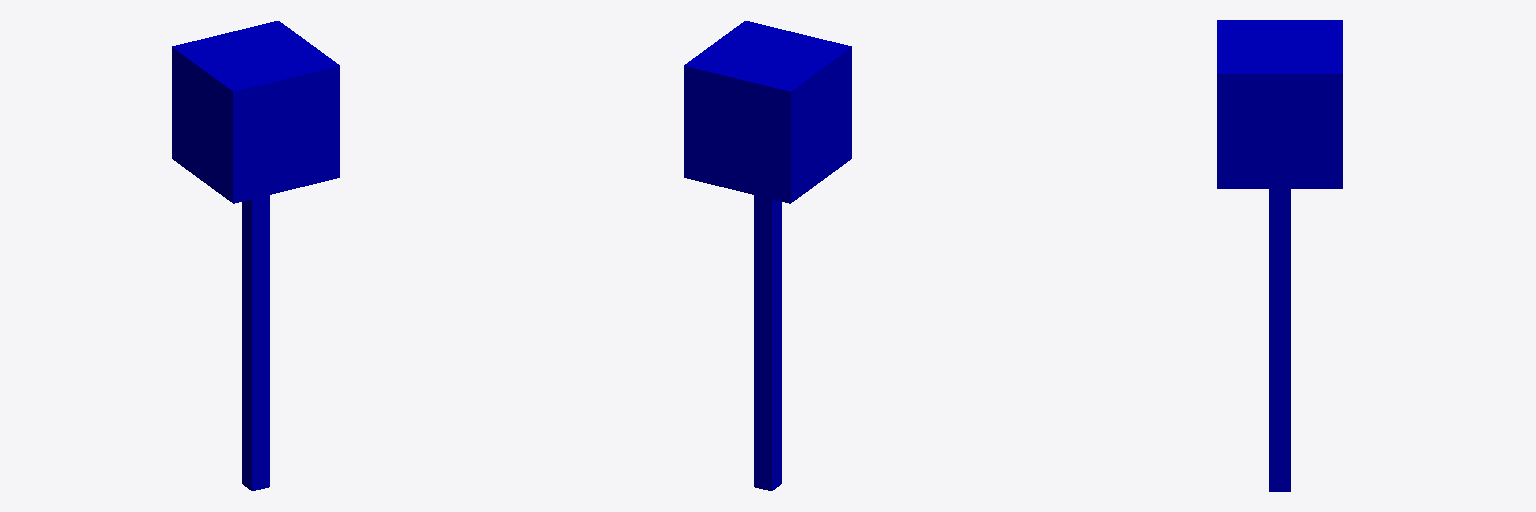
robot.urdf — pendulum_cart_ghost:
<?xml version="1.0" encoding="utf-8"?>
<robot name="pendulum_cart_ghost">
    <!-- Inertia box Ixx = 1/12 * (ly*2 + lh*2)-->

    <link name="odom"/>

    <joint name="cart_ghost" type="prismatic">
        <origin rpy="0 0 0" xyz="0 0 0"/>
        <parent link="odom"/>
        <child link="cart_link_ghost"/>
        <axis xyz="0 1 0"/>
        <limit effort="1000" lower="-30.14" upper="30.14" velocity="1.0"/>
    </joint>

    <link name="cart_link_ghost">
        <inertial>
            <origin xyz="0.0 0.0 0.0" rpy="0 0 0" />
            <mass value="1.0" />
            <inertia ixx="0.001667" ixy="0.0" ixz="0.0" iyy="0.0841667" iyz="0.0" izz="0.084167" />
        </inertial>
        <visual>
            <origin xyz="0.0 0.0 0.0" rpy="0 0 0"/>
            <geometry>
                <box size="0.3 0.3 0.3"/>
            </geometry>
            <material name="blue">
                <color rgba="0 0 .8 1"/>
            </material>
        </visual>

    </link>

    <joint name="pendulum_ghost" type="continuous">
        <origin rpy="0 1.57079632 0" xyz="0.0 0.0 0.0"/>
        <parent link="cart_link_ghost"/>
        <child link="pendulum_link_ghost"/>
        <axis xyz="0 0 1"/>
        <limit effort="1000" velocity="1.0"/>
    </joint>

    <link name="pendulum_link_ghost">
        <inertial>
            <origin xyz="0.5 0.0 0.0" rpy="0 0 0" />
            <mass value="1.0" />
            <inertia ixx="0.001667" ixy="0.0" ixz="0.0" iyy="0.0841667" iyz="0.0" izz="0.084167" />
        </inertial>
        <visual>
            <origin xyz="0.5 0.0 0.0" rpy="0 0 0"/>
            <geometry>
                <box size="1 0.05 0.05"/>
            </geometry>
            <material name="blue">
                <color rgba="0 0 .8 1"/>
            </material>
        </visual>
    </link>

</robot>

--- Render facts (derived) ---
3 views of the same robot in one strip: view 1: azimuth 30°, elevation 25°; view 2: azimuth 150°, elevation 25°; view 3: azimuth 270°, elevation 25° (orthographic).
Robot: pendulum_cart_ghost — 3 links, 2 joints (1 continuous, 1 prismatic); root link odom; default pose: all joints at 0.
Visible links, largest first — view 1: cart_link_ghost, pendulum_link_ghost; view 2: cart_link_ghost, pendulum_link_ghost; view 3: cart_link_ghost, pendulum_link_ghost.
Link boxes in pixels (x1,y1,x2,y2): cart_link_ghost: (172, 21, 339, 203); pendulum_link_ghost: (242, 195, 269, 490); cart_link_ghost: (684, 21, 851, 203); pendulum_link_ghost: (754, 195, 781, 490); cart_link_ghost: (1217, 20, 1342, 188); pendulum_link_ghost: (1269, 189, 1290, 491).
Size in the robot's own frame: 0.3 by 0.3 by 1.15 metres.
Geometry: primitives only (box / cylinder / sphere), no mesh files.